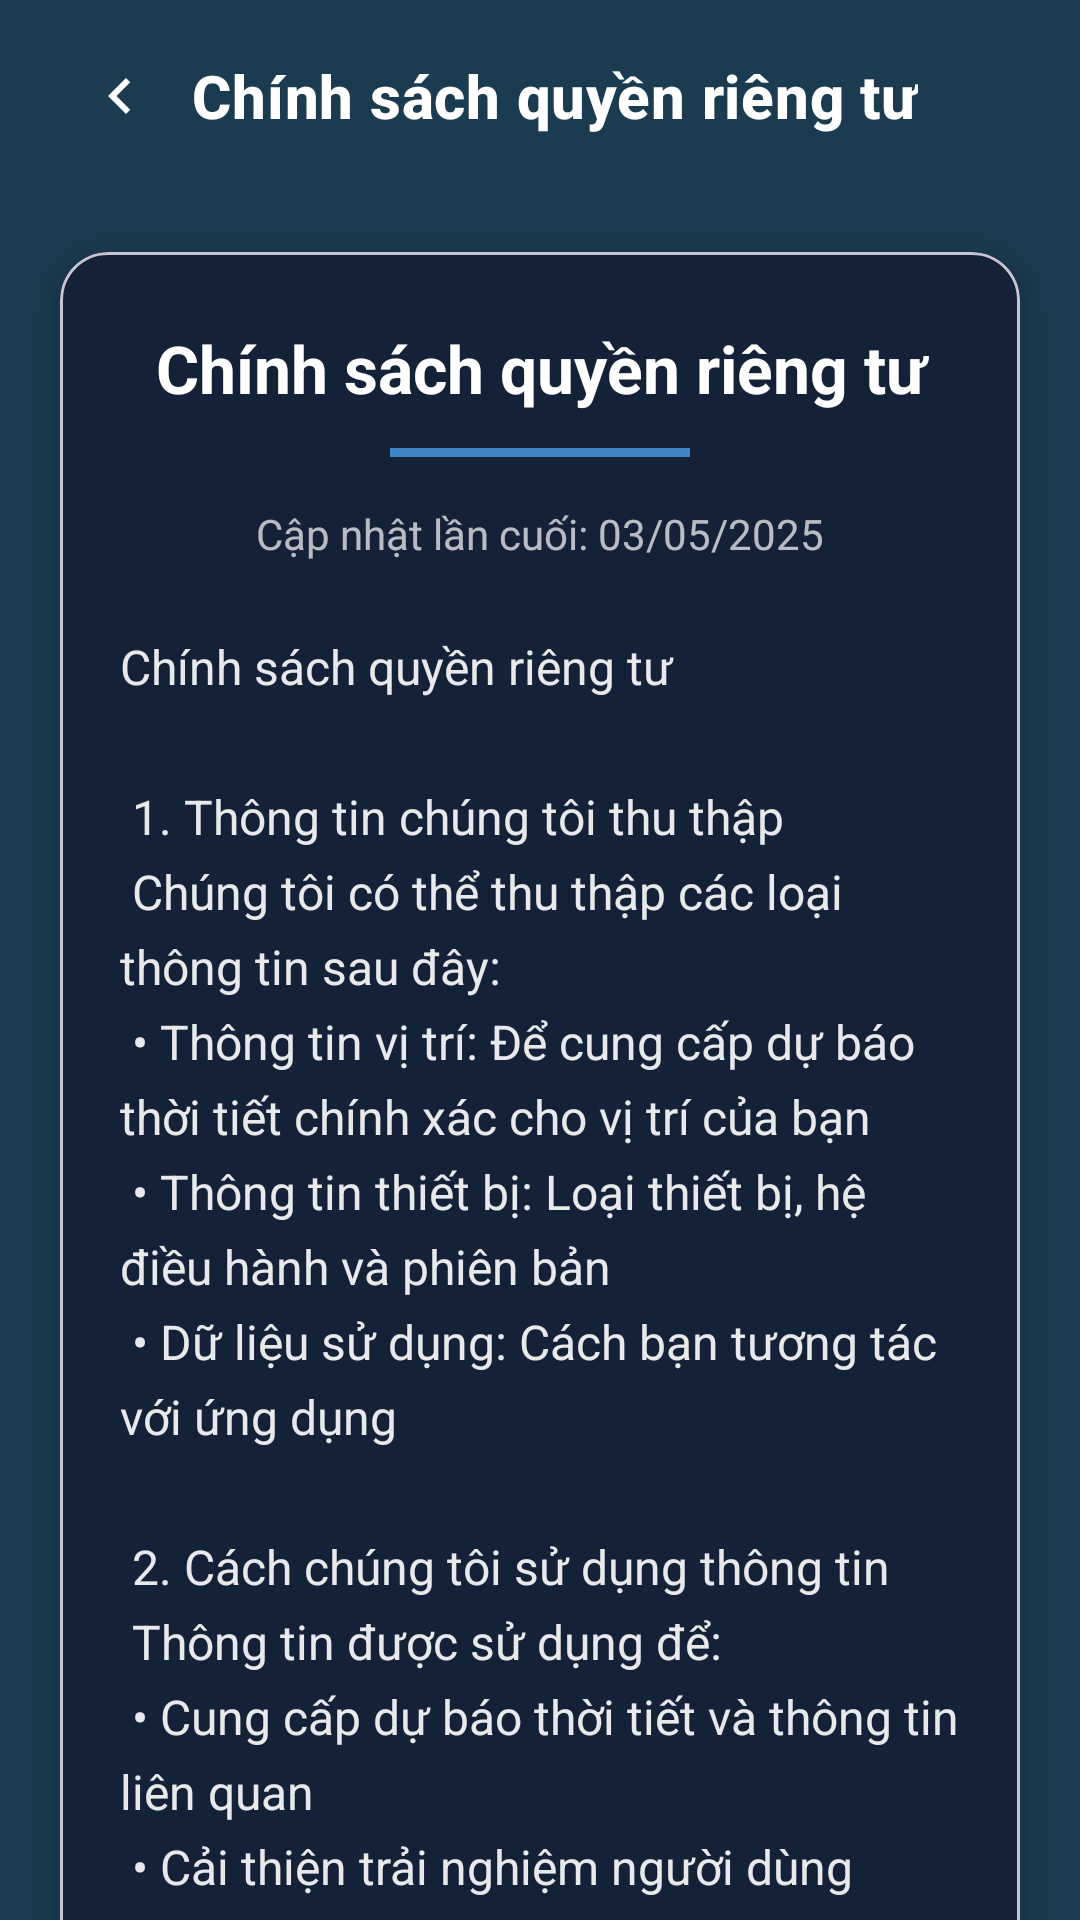

Named icons in this screenshot (1080px x 1920px) and their bounding boxes, (left=x1, top=y1, right=x2, bottom=y2):
Quay lại: (left=108, top=78, right=130, bottom=114)
